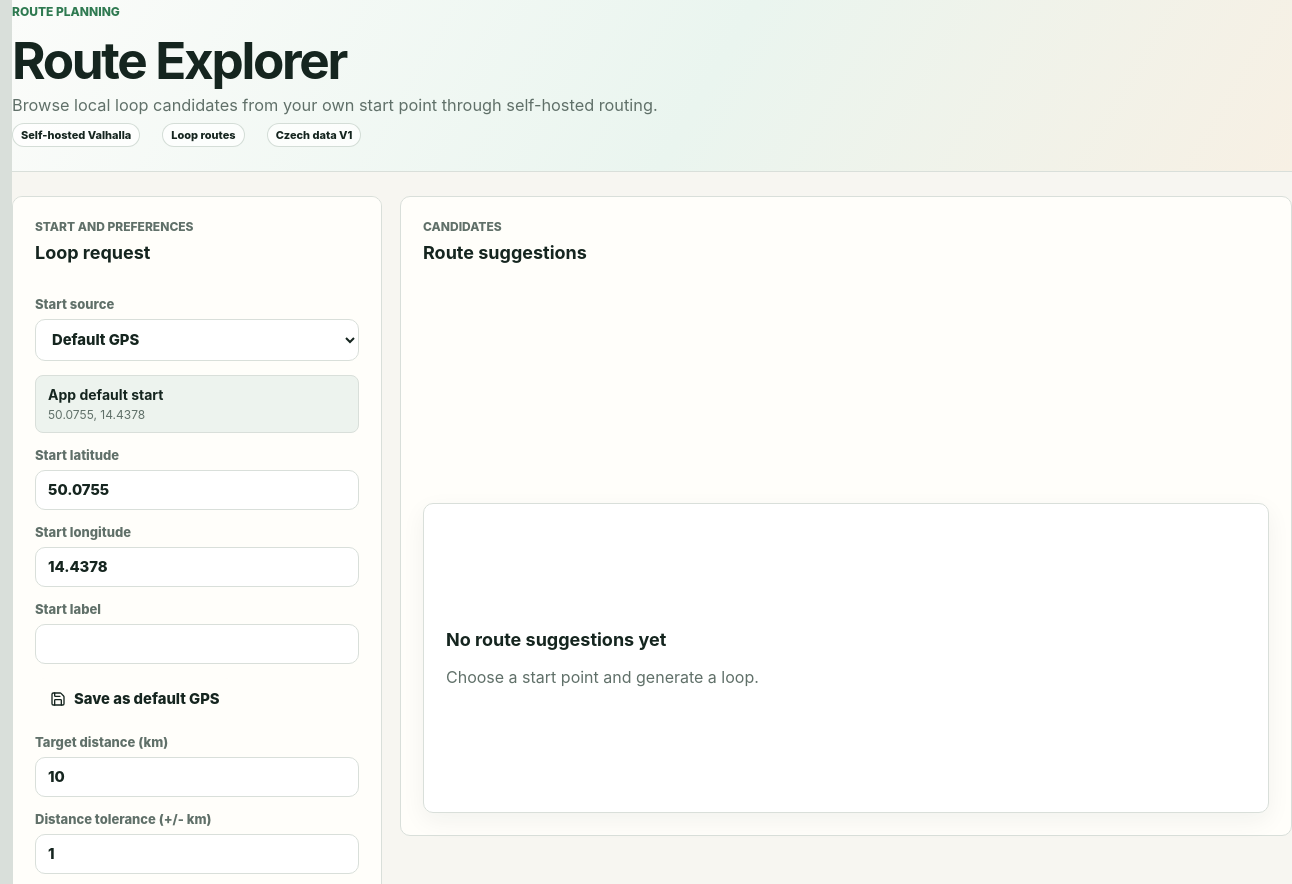
Test: RouteExplorerPage › saves manual GPS as the default route start
This screenshot has width=1292, height=884.
Select "Enter GPS" in the dropdown labelled "Start source" at (197,340), box [35, 319, 359, 361]
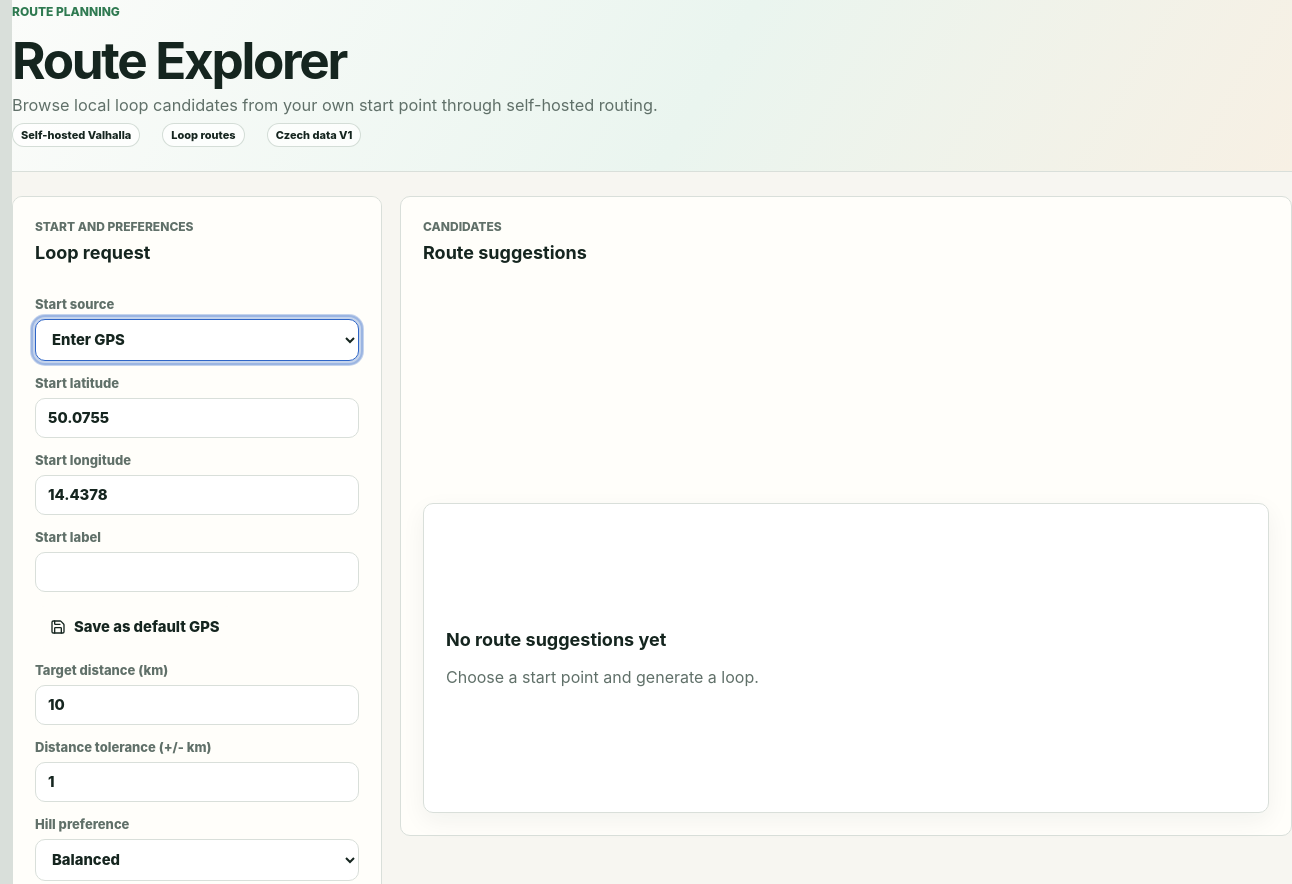
Replace the text in the number field labelled "Start latitude" with "49.2893614" at (197,418), box [35, 398, 359, 438]
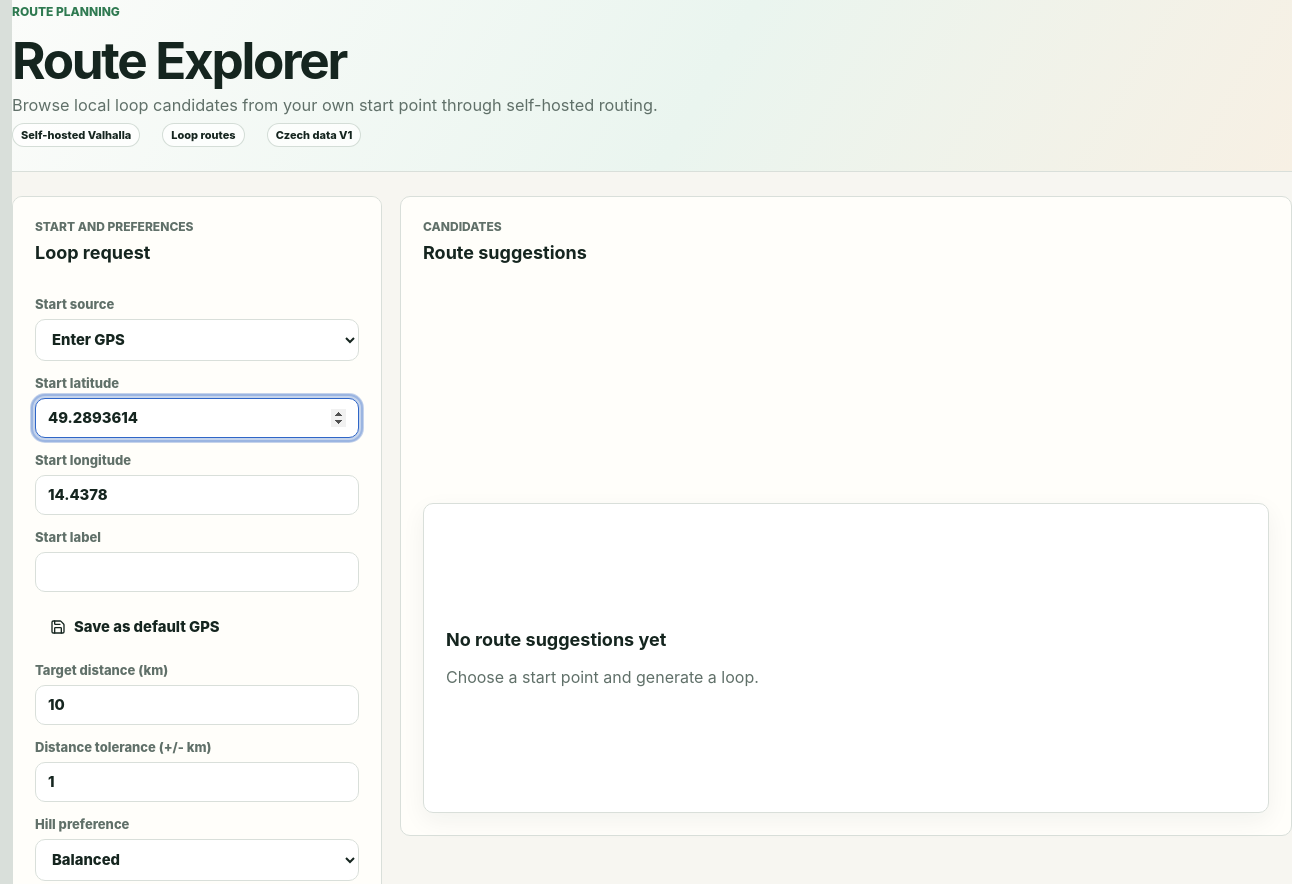
Replace the text in the number field labelled "Start longitude" with "16.0977864" at (197,495), box [35, 475, 359, 515]
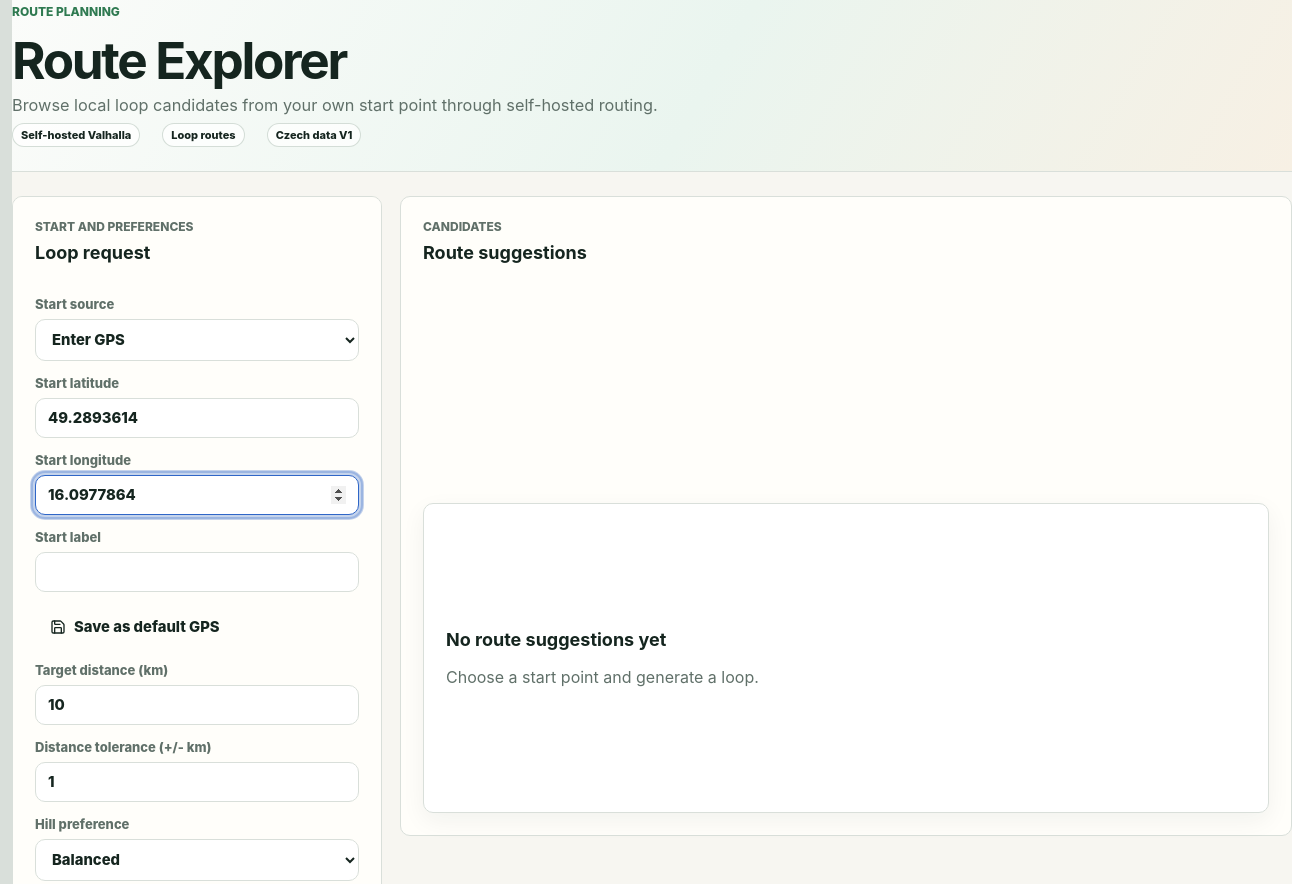
Type "Tasov" into the field labelled "Start label".
click(197, 572); type("Tasov")  # box [35, 552, 359, 592]
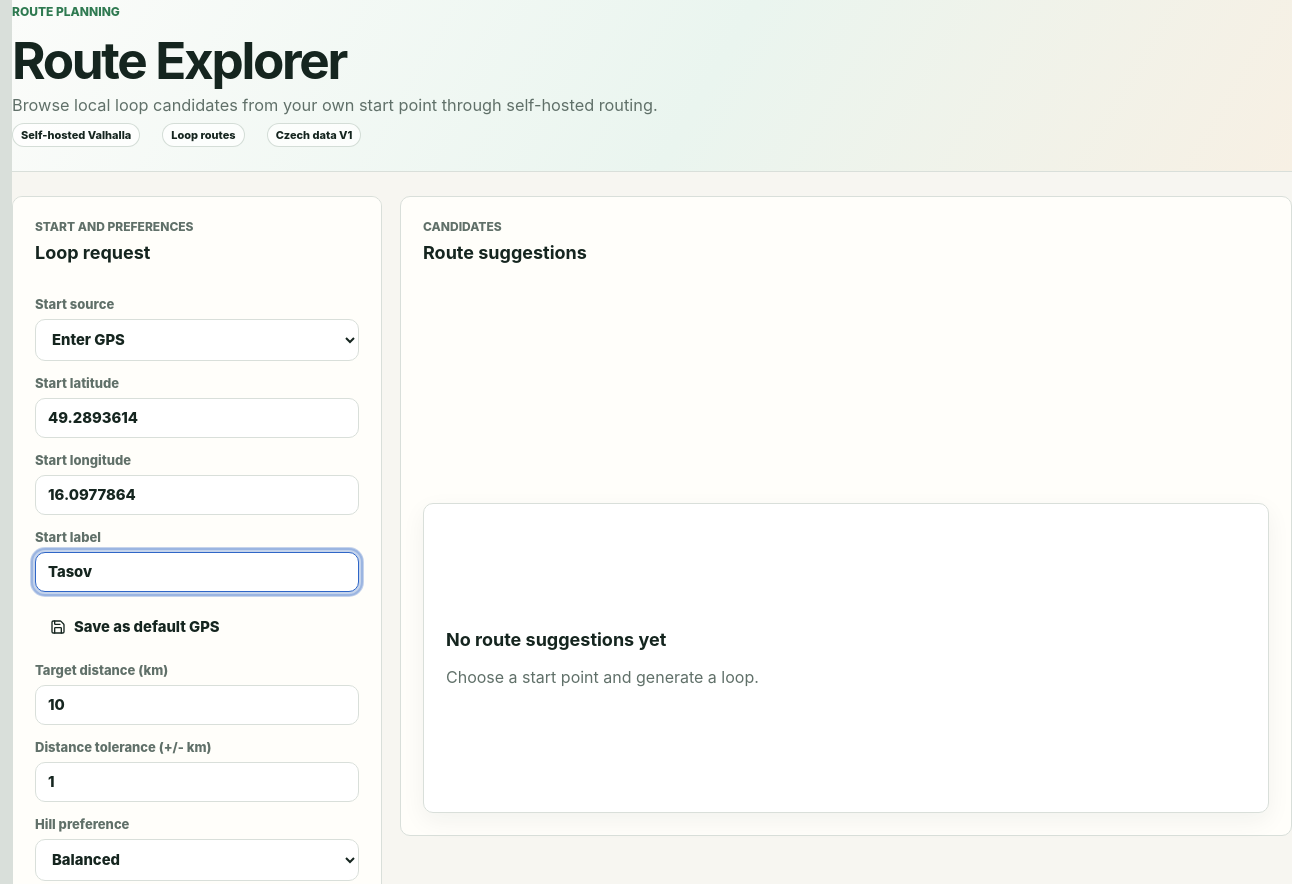
Clear the number field labelled "Target distance (km)" at (197,705), box [35, 685, 359, 725]
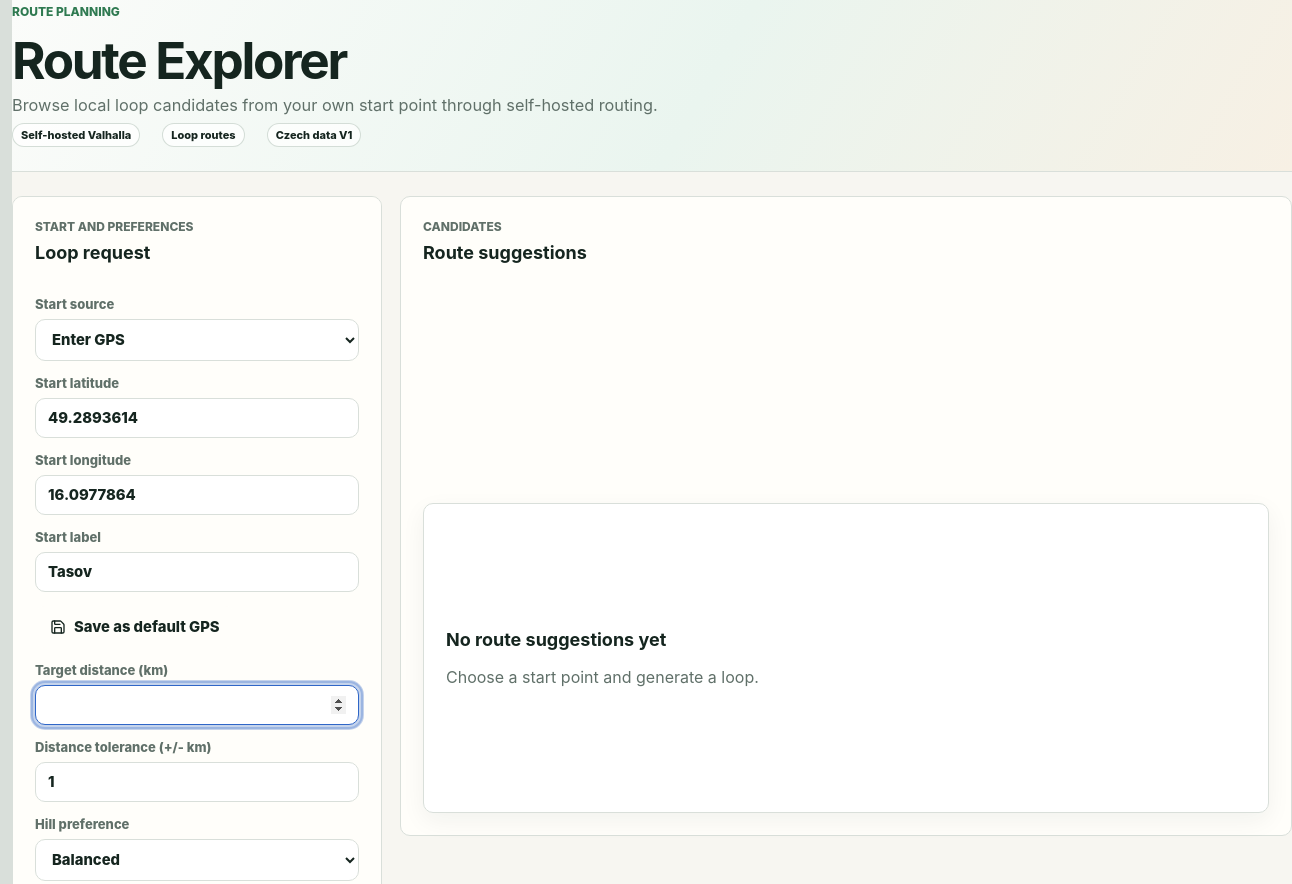
Click the button "Save as default GPS".
click(135, 627)  # box [35, 606, 235, 648]
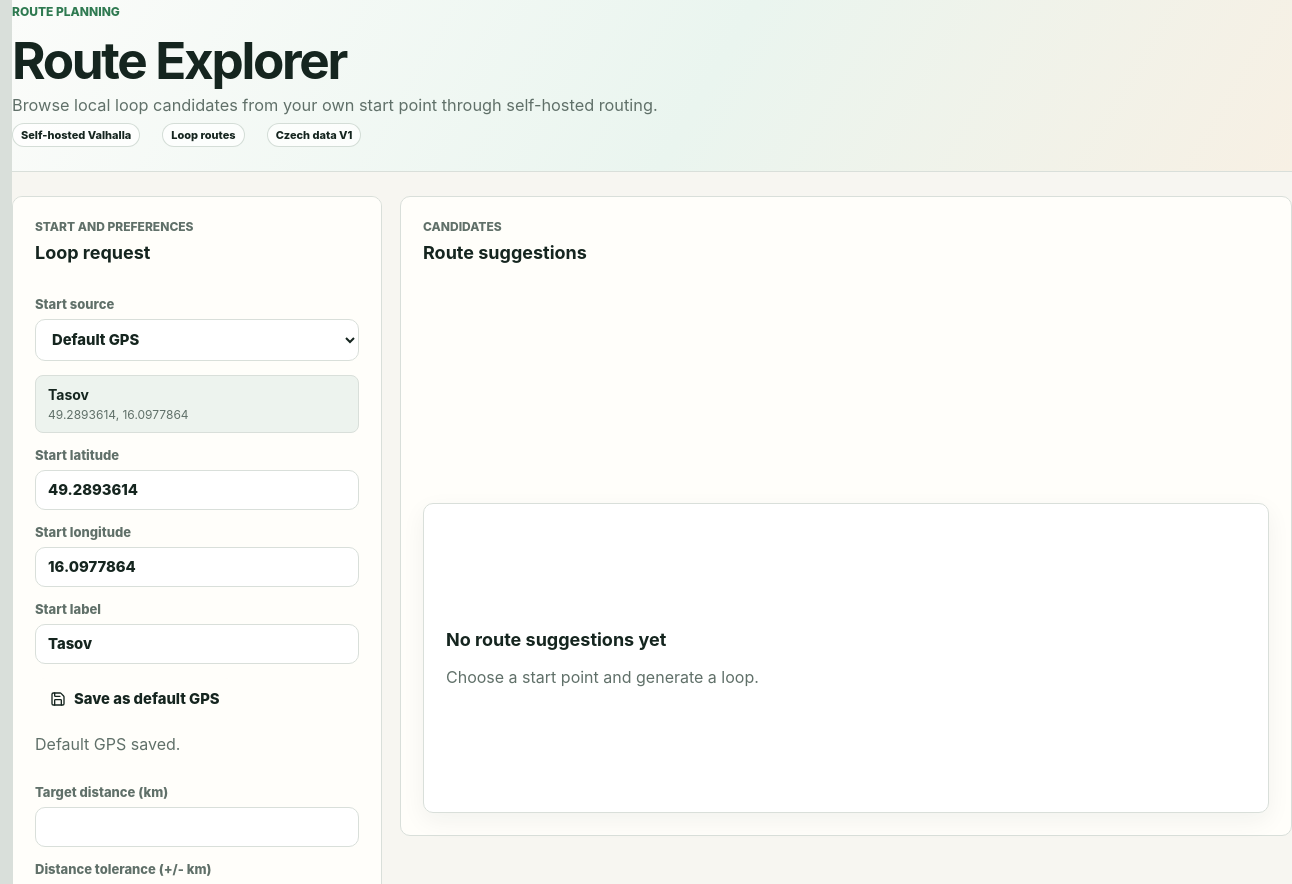
Expected: the text "Default GPS saved." is shown, [35, 734, 180, 754]
